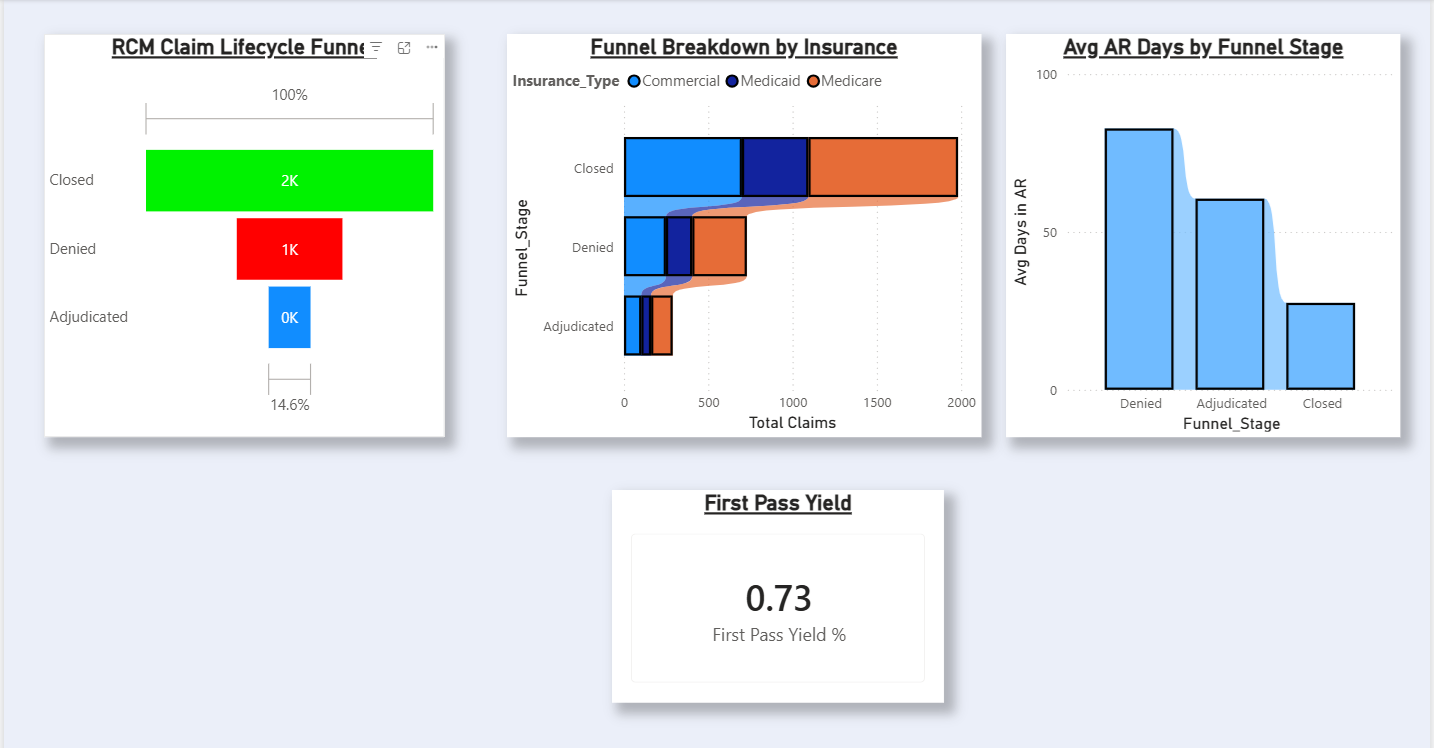

This screenshot's page, from the dashboard's own definition file:
{"tool":"powerbi","page":{"name":"RCM Funnel Analysis","canvas":[1280,720],"ordinal":1},"visuals":[{"type":"funnel","title":"RCM Claim Lifecycle Funnel","fields":{"Category":["Claims_Data.Funnel_Stage"],"Y":["Claims_Data.Total Claims"]},"box":[36.1,31.1,359.4,362.4],"z":0},{"type":"cardVisual","title":"First Pass Yield","fields":{"Data":["Claims_Data.First Pass Yield %"]},"box":[546.1,440.7,298.2,190.7],"z":1000},{"type":"barChart","title":"Funnel Breakdown by Insurance","fields":{"Category":["Claims_Data.Funnel_Stage"],"Y":["Claims_Data.Total Claims"],"Series":["Claims_Data.Insurance_Type"]},"box":[451.8,31.1,425.7,362.4],"z":2000},{"type":"columnChart","title":"Avg AR Days by Funnel Stage","fields":{"Category":["Claims_Data.Funnel_Stage"],"Y":["Claims_Data.Avg Days in AR"]},"box":[899.5,31.1,354.4,362.4],"z":3000}]}

Visuals, with their boxes on the page's 1280x720 design canvas (x1, y1, x2, y2). These are canvas units, not pixel positions in the 1434x748 screenshot, which may show the page scaled, cropped or inside an application window:
"RCM Claim Lifecycle Funnel" funnel: <box>36,31,396,394</box>
"First Pass Yield" cardVisual: <box>546,441,844,631</box>
"Funnel Breakdown by Insurance" barChart: <box>452,31,878,394</box>
"Avg AR Days by Funnel Stage" columnChart: <box>900,31,1254,394</box>
